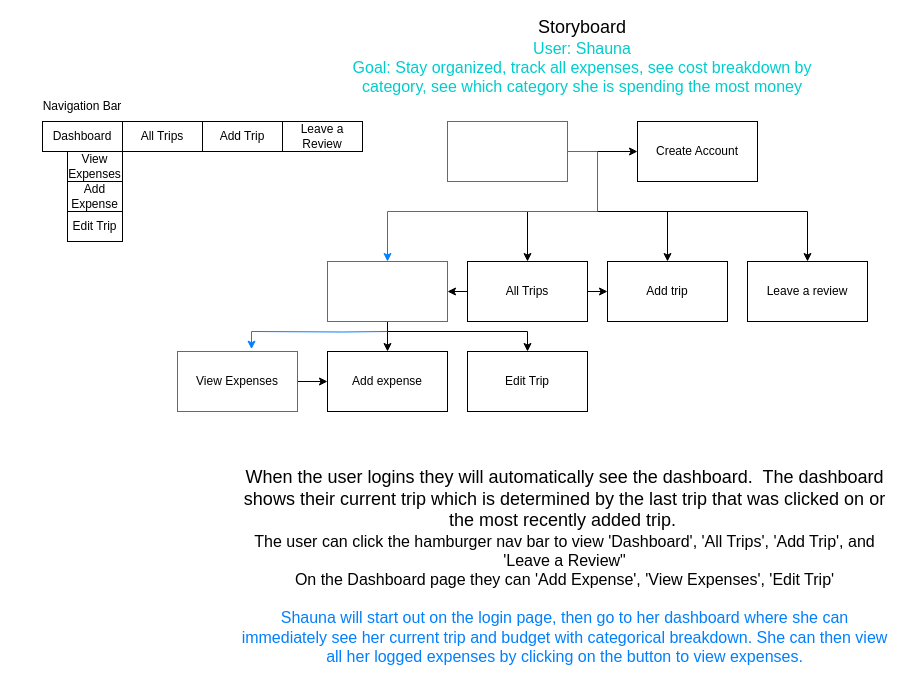
Image size: 909x689. Some labels were removed from this diagram. The centre of each missing label's shape, as x and y in pixels:
Dashboard - Current Trip: point (387, 291)
Login: point (507, 151)
